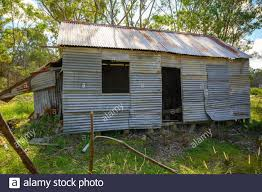Tin-shade House: (35, 19, 252, 127)
